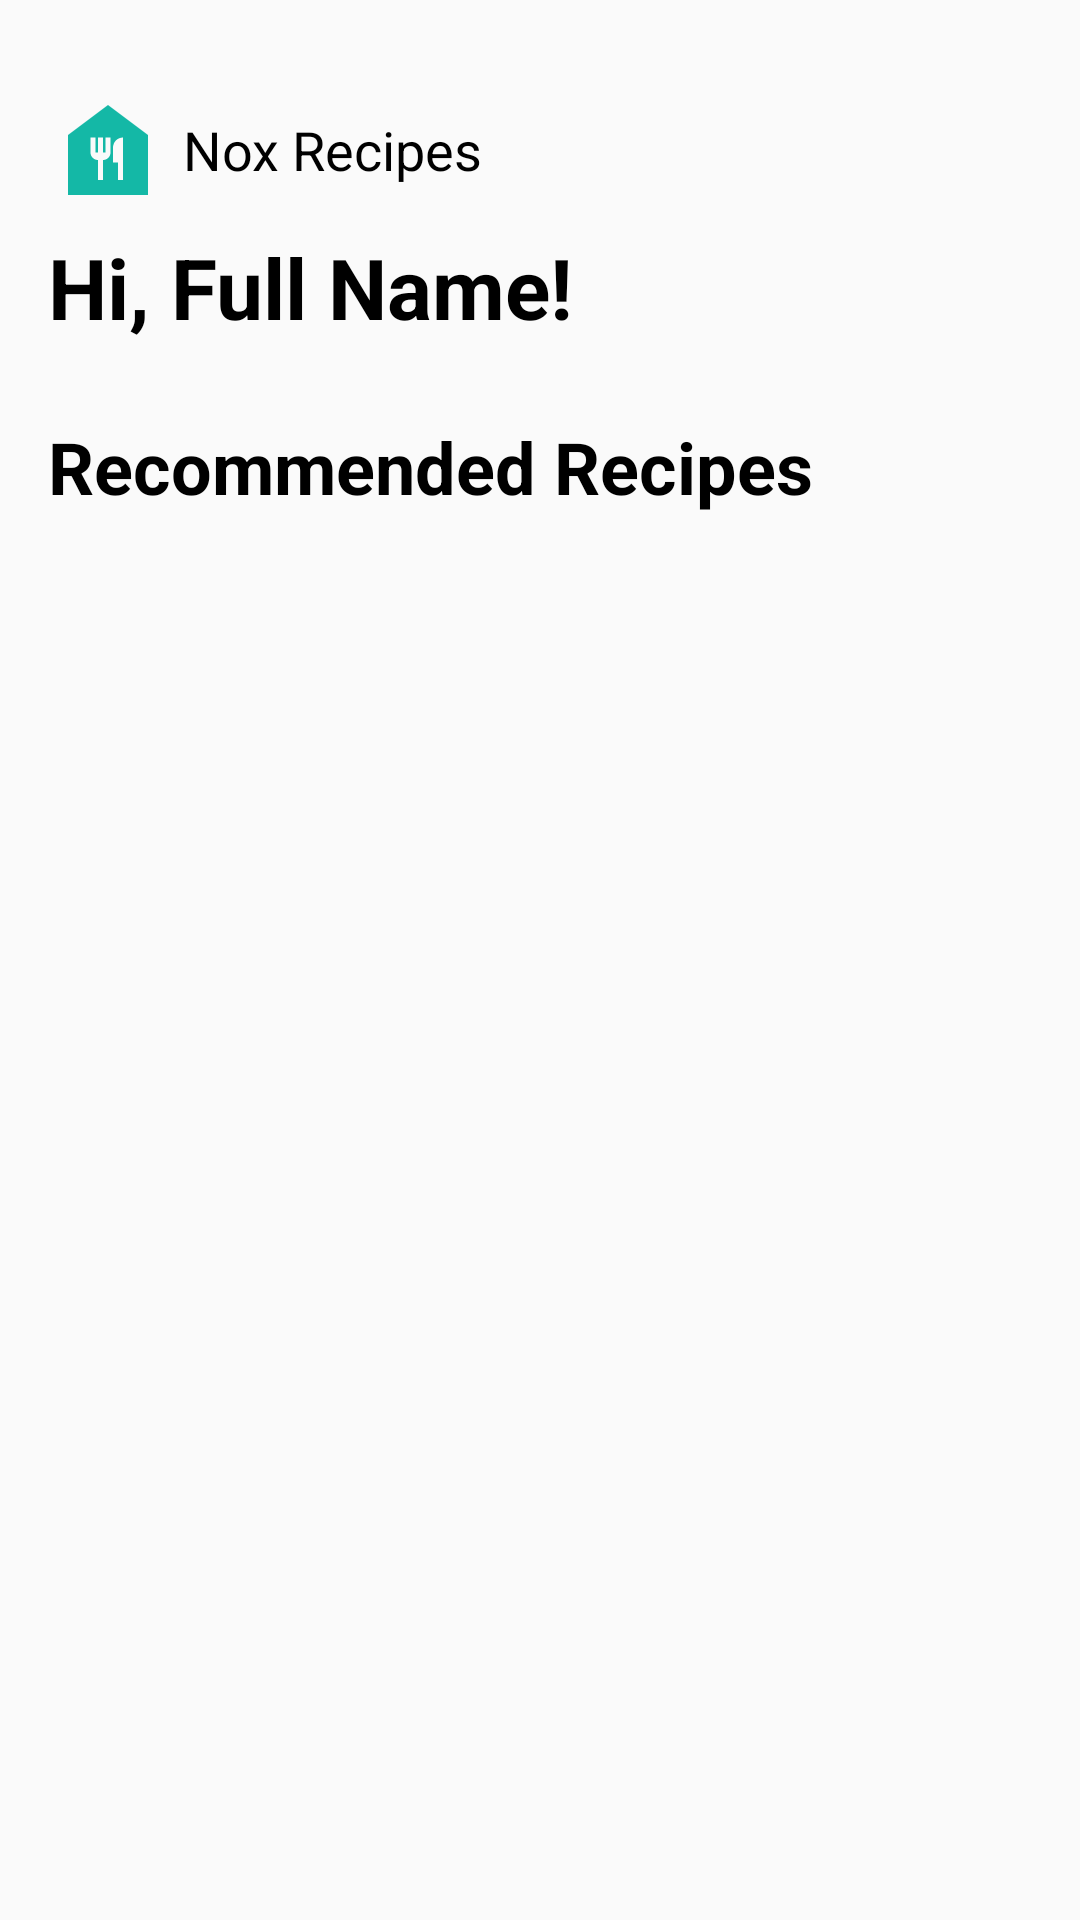

Icons on this 1080*1920 Android screen, each with its box as bbox=(x1, y1, x2, y2):
food bank: bbox=(68, 105, 148, 195)
